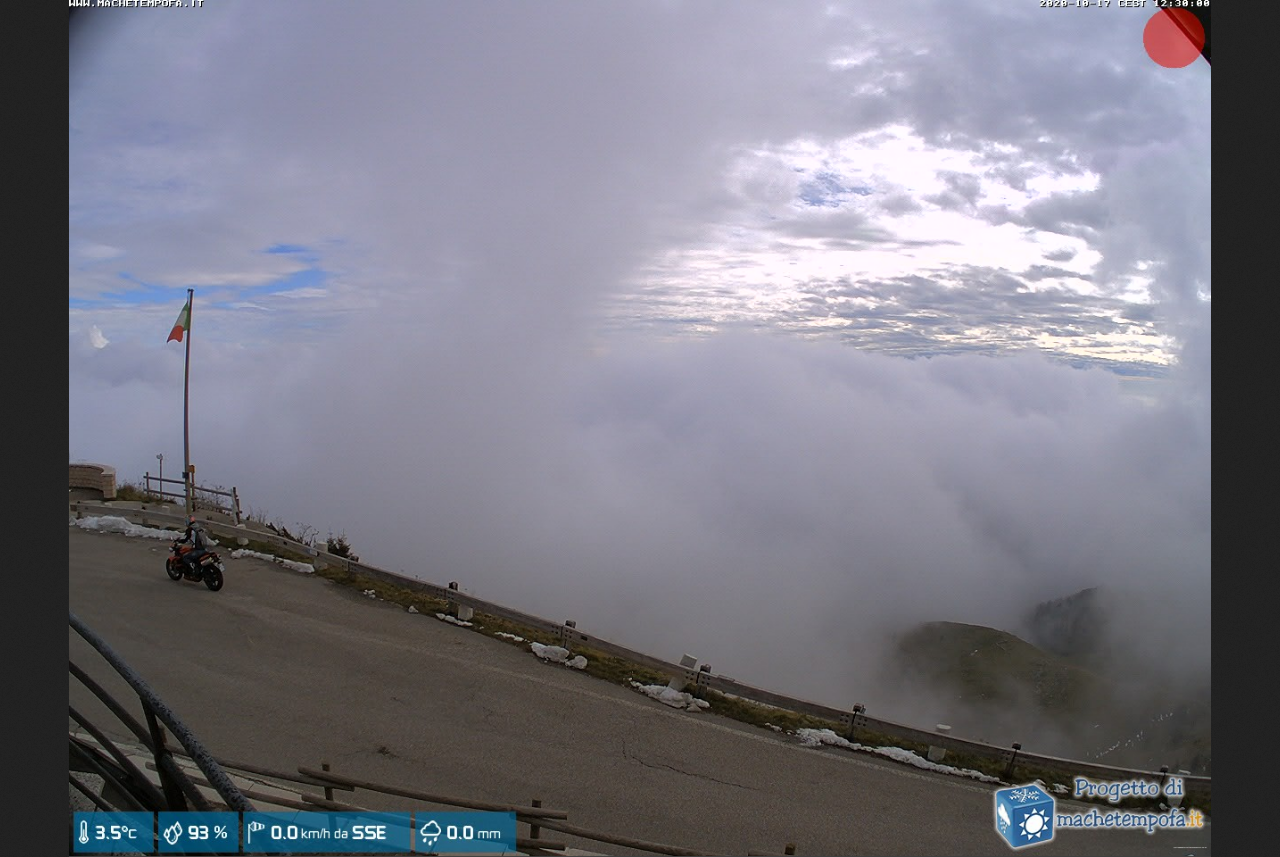no: (166, 293, 193, 347)
